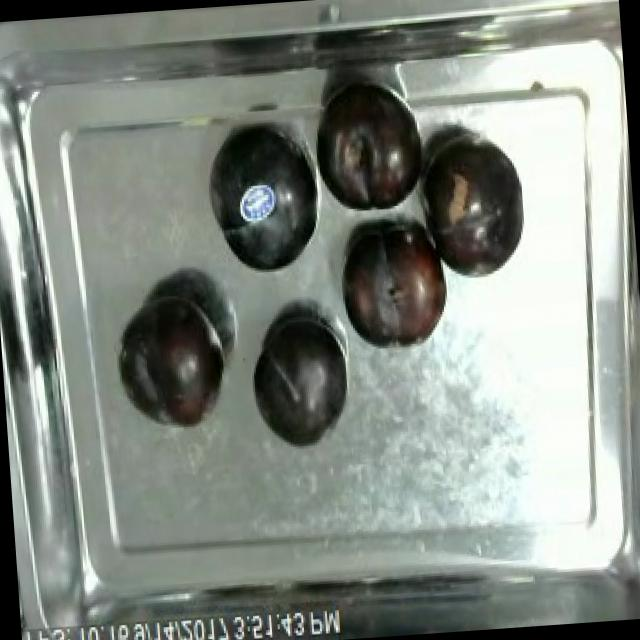Fruit: (196, 119, 327, 286), (412, 134, 534, 286), (116, 284, 236, 438), (332, 216, 454, 356), (310, 80, 431, 220), (244, 308, 354, 457)
